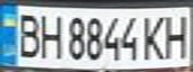4: (118, 12, 142, 62), (103, 12, 124, 62)
8: (63, 12, 87, 61), (84, 12, 106, 61)
B: (12, 9, 42, 58)
H: (160, 11, 193, 60), (36, 11, 63, 60)
K: (139, 11, 169, 61)
